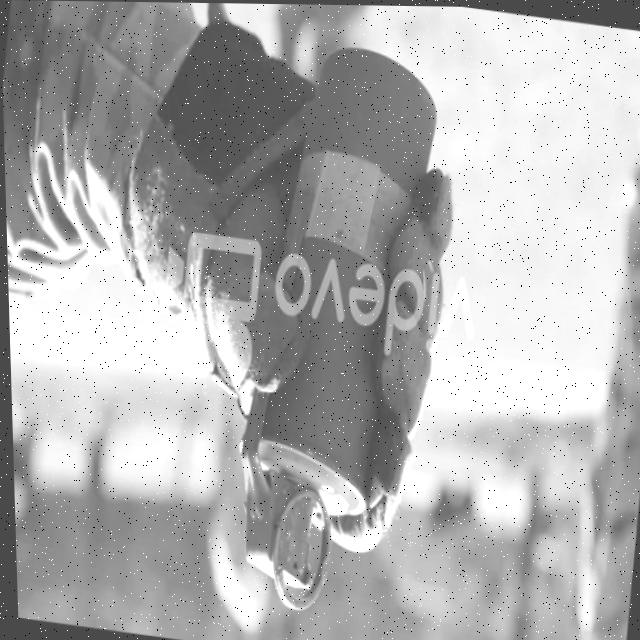grenade: (205, 25, 464, 626)
